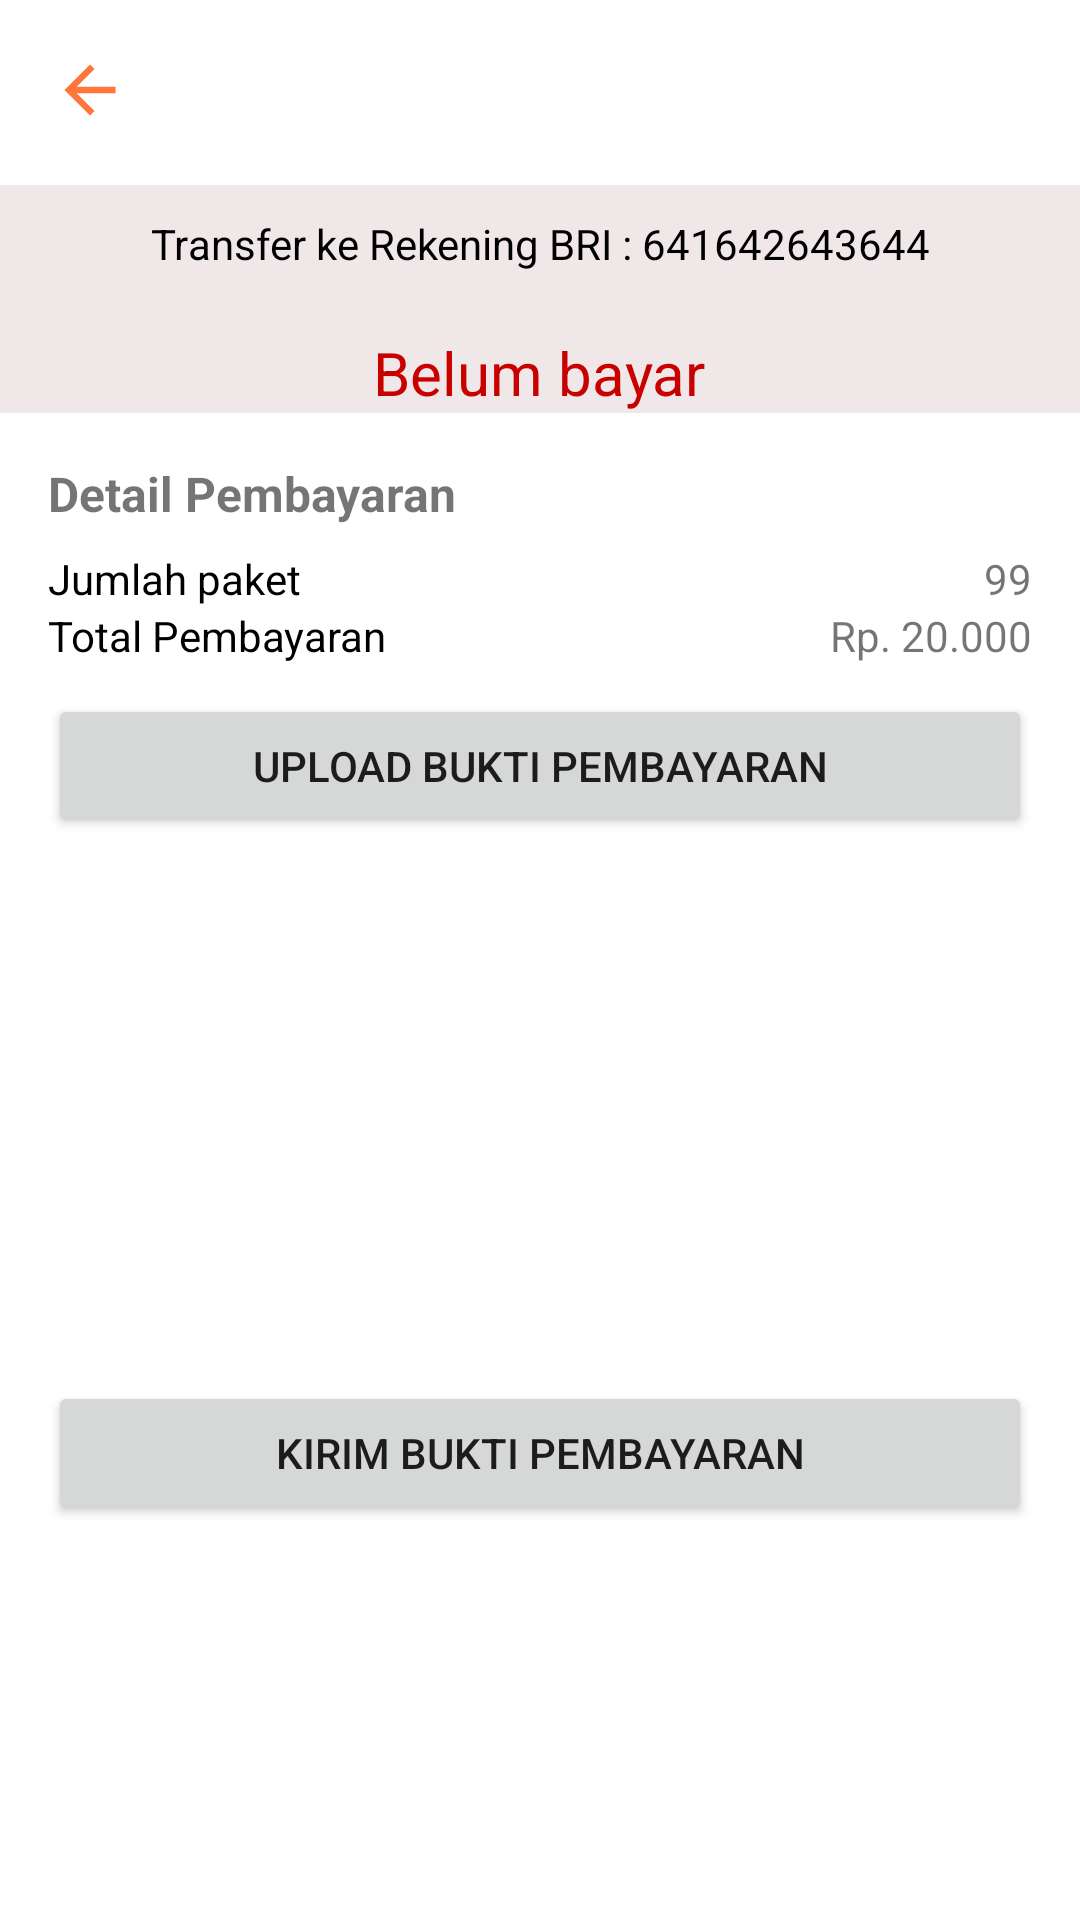

Icon bounding boxes for this 1080*1920 phone screenshot, format (x1, y1, x2, y2):
back: (65, 65, 116, 116)
